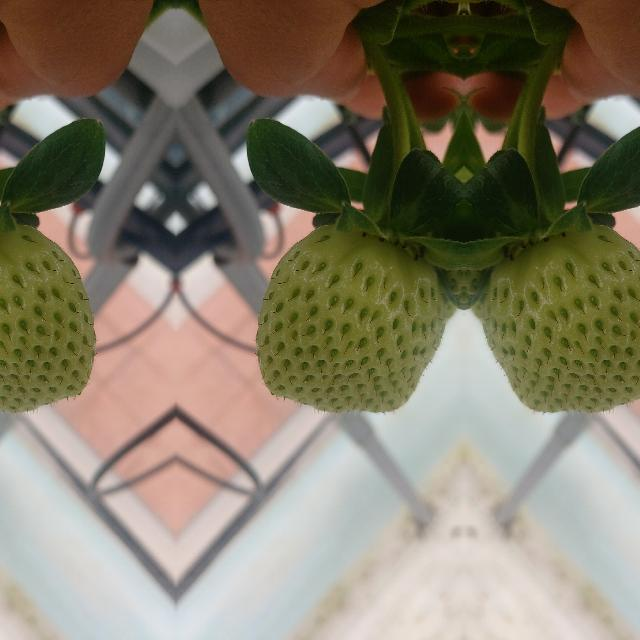Health_25: (254, 224, 444, 412), (482, 224, 640, 412), (0, 224, 96, 412)
